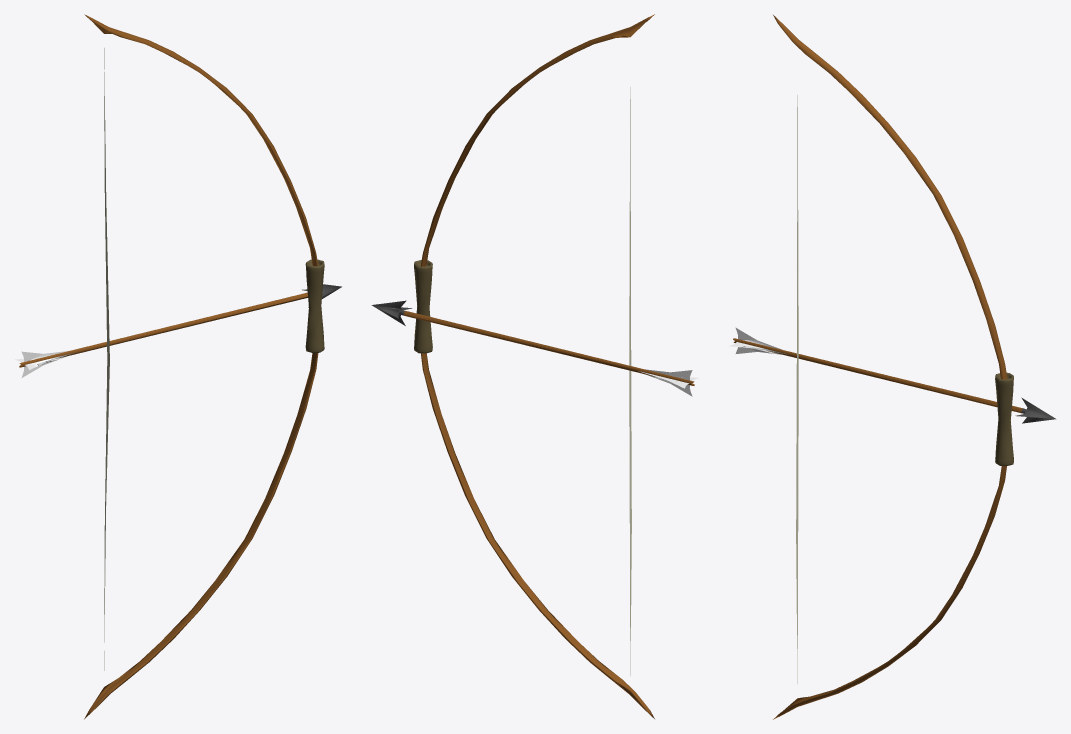
File: Long Bow.fbx
The picture shows the model from 3 angles, left to right: view 1: azimuth 30°, elevation 25°; view 2: azimuth 150°, elevation 25°; view 3: azimuth 330°, elevation 25°; orthographic projection.
Parts seen in each view (by area): view 1: Bow, Arrow; view 2: Bow, Arrow; view 3: Bow, Arrow.
Boxes of the visible parts, x1=… form: Bow: x1=84, y1=14, x2=324, y2=719; Arrow: x1=15, y1=284, x2=341, y2=377; Bow: x1=414, y1=14, x2=654, y2=718; Arrow: x1=371, y1=300, x2=698, y2=396; Bow: x1=773, y1=15, x2=1013, y2=719; Arrow: x1=729, y1=327, x2=1056, y2=423.
Bounding box in the file's own units: 1961 × 4098 × 260.
